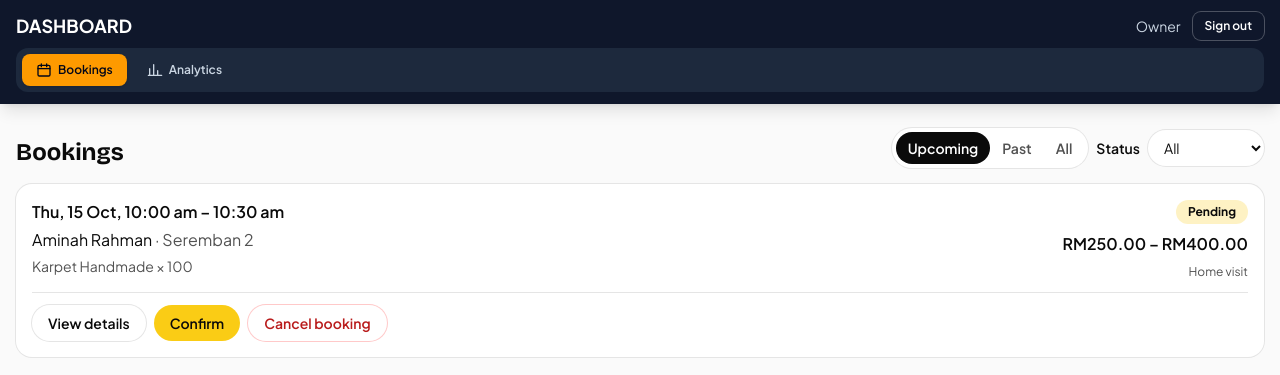
bookings page › shows an error when an update fails
The image size is (1280, 375).
Click the button "Confirm": [197, 323] box x1=154 y1=305 x2=240 y2=341
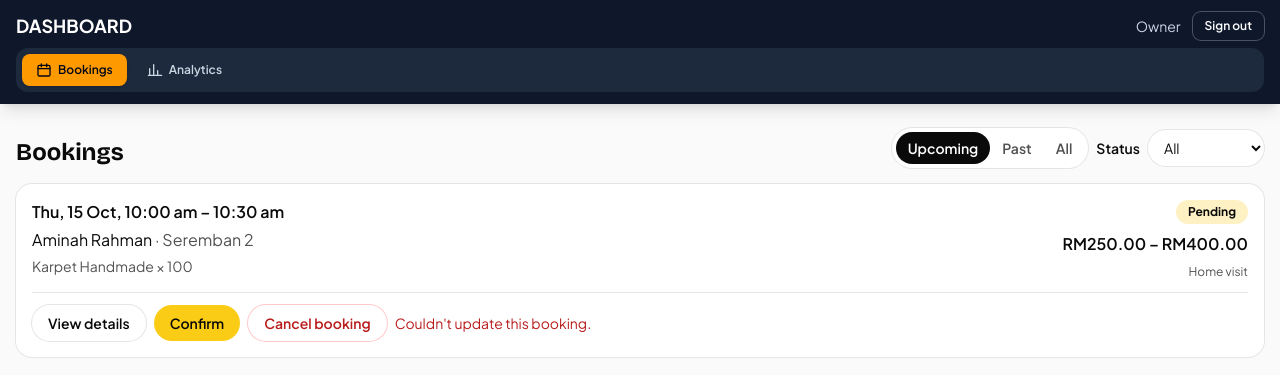
Expected: the text "Pending" is shown, x1=1176 y1=200 x2=1248 y2=224
Expected: the message shows "Couldn't update", x1=395 y1=314 x2=591 y2=332
